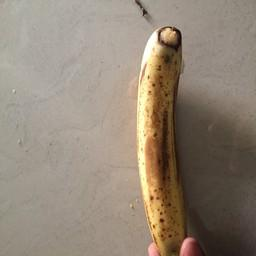Banana Ripe: (113, 20, 214, 256)
